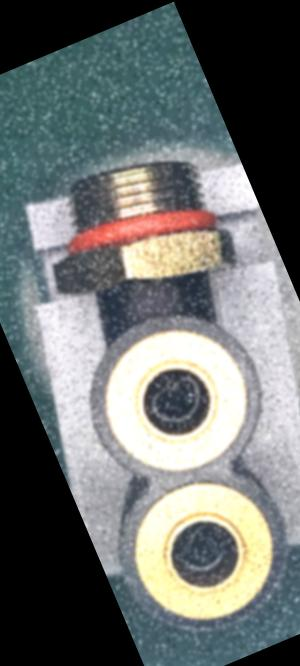joint line: (142, 273, 168, 314)
off-centered: (161, 510, 241, 586), (136, 362, 213, 436)
